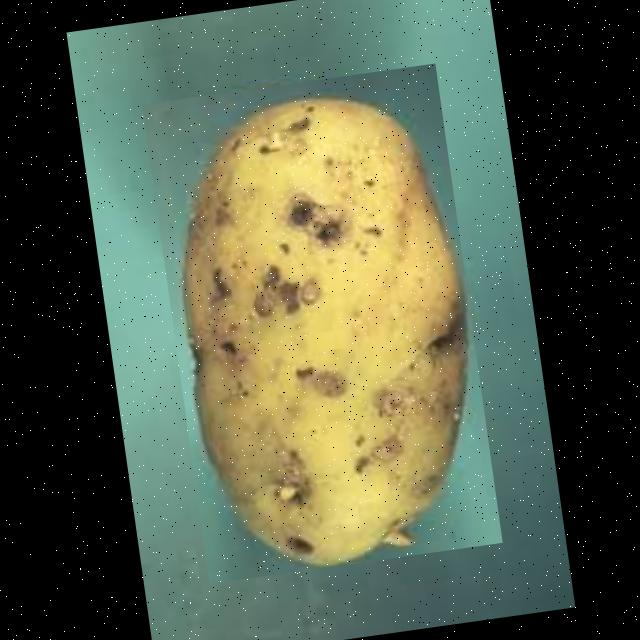Diseased-fungal potato: (142, 64, 502, 584)
